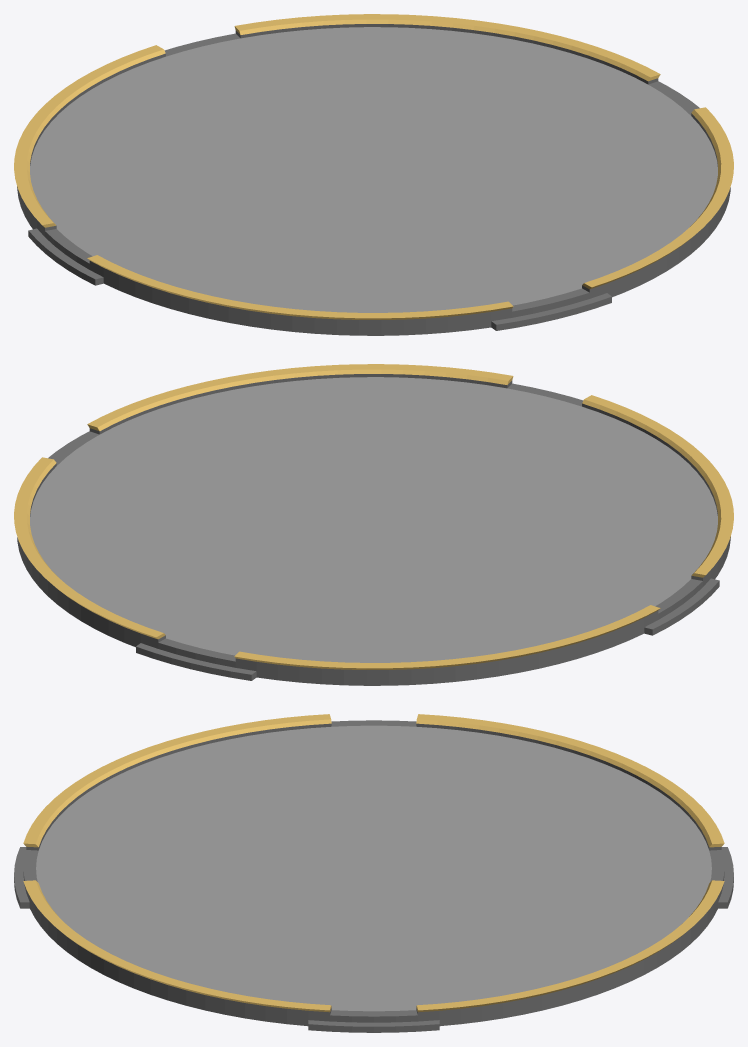
Rendered from plein lod.fbx.
3 renders of one model, top to bottom at view 1: azimuth 30°, elevation 25°; view 2: azimuth 150°, elevation 25°; view 3: azimuth 270°, elevation 25°, orthographic.
Visible parts, largest first — view 1: Cylinder_LOD0; view 2: Cylinder_LOD0; view 3: Cylinder_LOD0.
Boxes of the visible parts, <box> form: Cylinder_LOD0: <box>14,14,733,335</box>; Cylinder_LOD0: <box>14,364,733,685</box>; Cylinder_LOD0: <box>14,714,733,1032</box>.
Size of what is drawn, in the model's own units: 18.77 by 0.5319 by 18.77.
